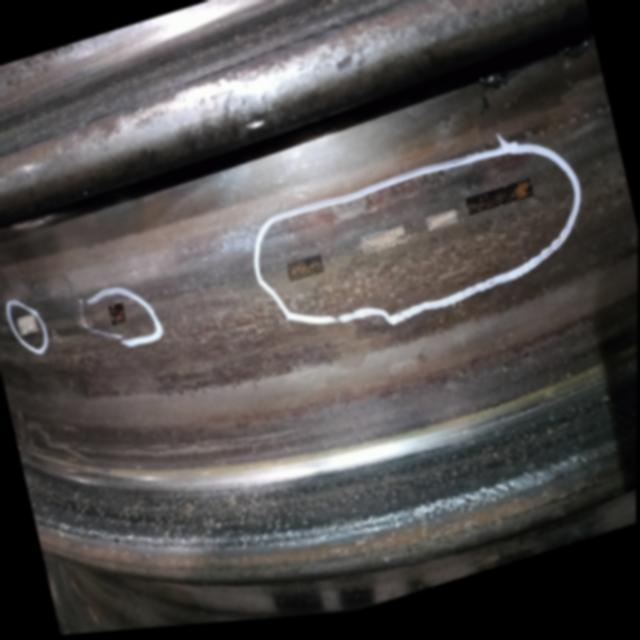Blue hole: (110, 305, 128, 328)
